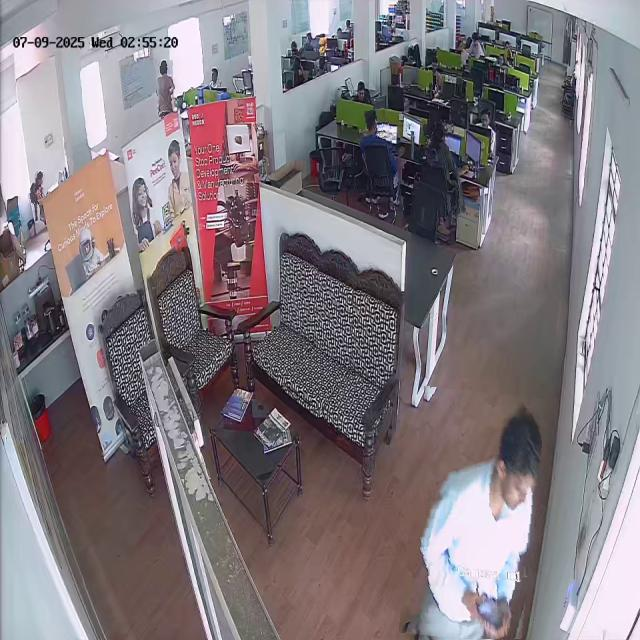person: (404, 389, 540, 640), (360, 109, 400, 215), (427, 121, 462, 216), (151, 60, 178, 118), (30, 167, 48, 204)
